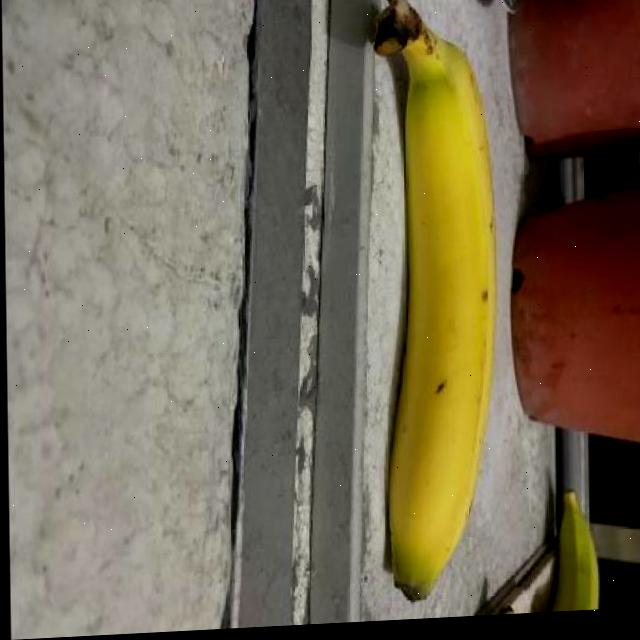banana: (351, 0, 511, 619)
